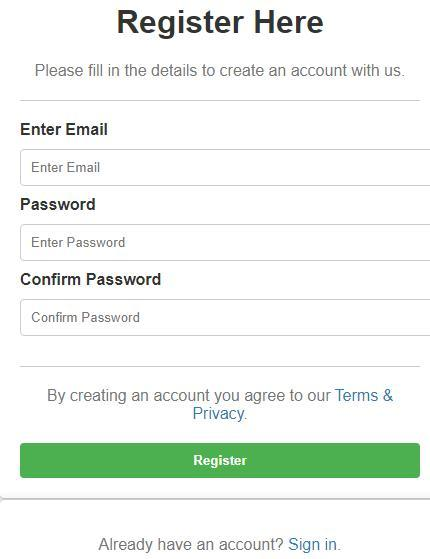button: (21, 443, 421, 479)
input: (22, 225, 430, 262), (22, 150, 430, 186), (22, 300, 430, 336)
label: (19, 271, 169, 292), (17, 117, 112, 140), (17, 195, 103, 217)
